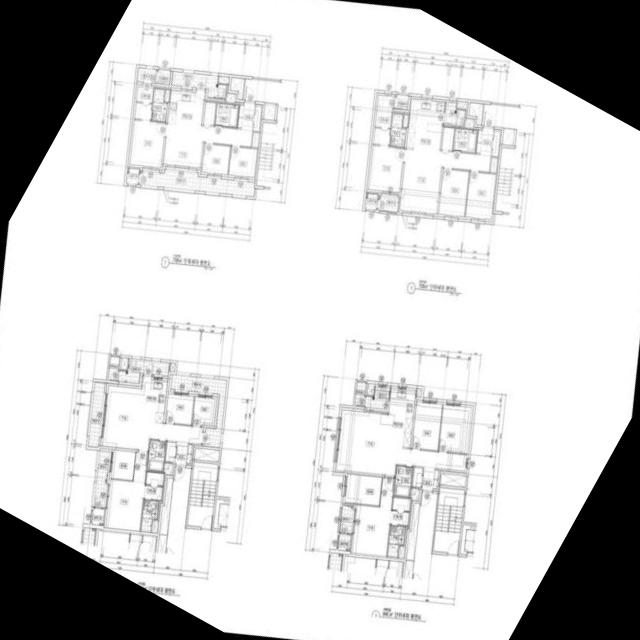background: (0, 0, 640, 640)
space_balconi: (170, 374, 227, 447), (139, 169, 255, 196), (172, 71, 227, 99), (118, 358, 170, 383), (88, 381, 105, 447), (93, 450, 110, 507), (365, 386, 390, 412), (443, 102, 465, 127), (340, 505, 354, 533), (377, 194, 399, 211), (137, 67, 156, 83)
space_bedroom: (105, 452, 148, 531), (352, 477, 394, 556), (130, 119, 166, 167), (368, 145, 404, 192), (438, 404, 472, 453), (465, 171, 496, 219), (412, 401, 442, 450), (439, 168, 469, 216), (165, 394, 194, 424), (202, 143, 230, 174), (229, 146, 257, 177), (192, 396, 215, 426)
space_dressroom: (373, 95, 393, 145), (134, 84, 153, 120), (144, 472, 164, 500), (391, 497, 411, 525)
space_front: (476, 126, 494, 155), (237, 102, 255, 130), (422, 467, 439, 491), (175, 441, 192, 463)
space_kitchen: (406, 98, 445, 150), (385, 388, 416, 447), (138, 375, 167, 423), (168, 90, 204, 125)
space_living_room: (336, 409, 467, 475), (102, 385, 202, 450), (400, 148, 491, 213), (163, 121, 252, 167)
space_multipurpose_space: (345, 474, 382, 505), (111, 449, 135, 480)
space_other: (159, 477, 173, 535), (406, 503, 420, 560), (194, 447, 220, 461), (441, 473, 466, 487), (230, 77, 245, 100), (469, 102, 483, 125), (203, 101, 216, 125), (442, 127, 455, 150), (108, 356, 119, 381), (355, 382, 366, 406), (253, 105, 262, 131), (263, 102, 276, 120), (156, 69, 171, 84), (394, 94, 409, 109), (165, 441, 176, 461), (412, 467, 423, 487), (502, 128, 514, 145), (492, 131, 500, 156), (252, 132, 259, 147), (490, 157, 497, 172), (410, 488, 419, 499), (120, 357, 128, 369), (464, 119, 474, 128), (218, 76, 229, 84), (164, 462, 172, 473), (226, 94, 235, 103), (164, 89, 170, 102), (152, 520, 158, 532), (398, 546, 404, 558), (367, 385, 374, 395), (403, 114, 408, 127), (457, 103, 467, 109), (170, 363, 175, 371), (416, 389, 421, 397)
space_outdoor_room: (338, 533, 351, 551), (126, 167, 139, 184), (92, 508, 105, 525), (365, 193, 378, 209)
space_staircase: (187, 462, 218, 528), (434, 487, 465, 553)
space_toilet: (147, 440, 166, 472), (141, 499, 159, 532), (453, 128, 477, 152), (387, 525, 405, 557), (394, 465, 412, 497), (151, 88, 168, 121), (215, 103, 238, 127), (390, 113, 406, 147)
